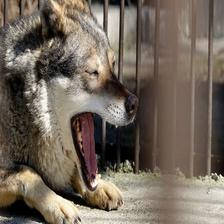WOLF: (0, 0, 139, 224)
